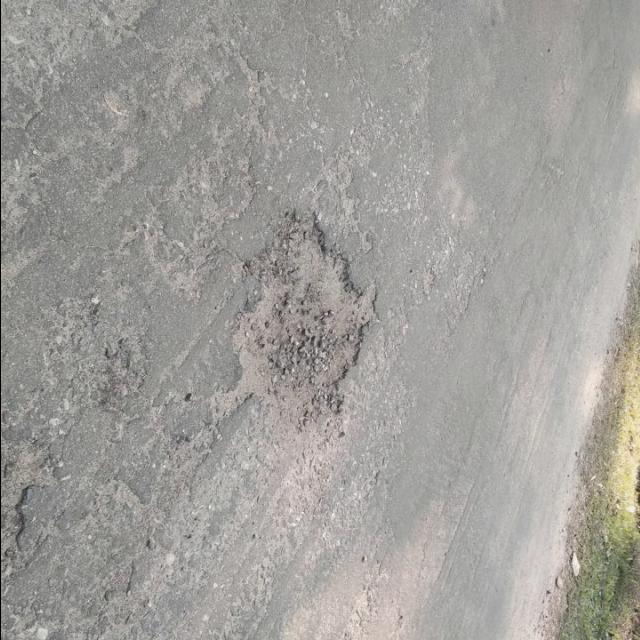pothole: (230, 204, 374, 461), (1, 446, 67, 561)
